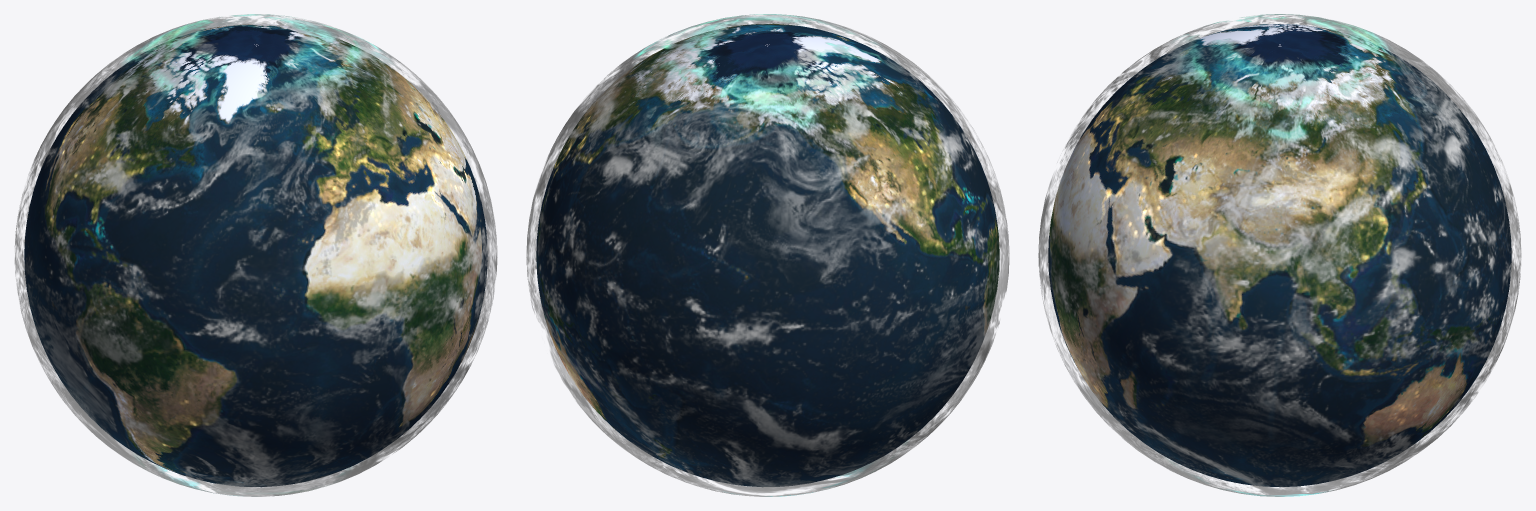
Rendered from earth.gltf.
3 renders of one model, left to right at view 1: azimuth 30°, elevation 25°; view 2: azimuth 150°, elevation 25°; view 3: azimuth 270°, elevation 25°, orthographic.
Visible parts, largest first — view 1: Earth_2; view 2: Earth_2; view 3: Earth_2.
Boxes of the visible parts, x1=… form: Earth_2: x1=14, y1=14, x2=497, y2=496; Earth_2: x1=526, y1=14, x2=1009, y2=496; Earth_2: x1=1038, y1=14, x2=1521, y2=496.
Size of the model in its own units: 0.0128 by 0.0128 by 0.0128.
Materials: 2 (2 with a texture image).
